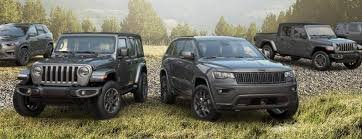mobil: (157, 30, 294, 129), (28, 32, 149, 119), (265, 15, 359, 66)
